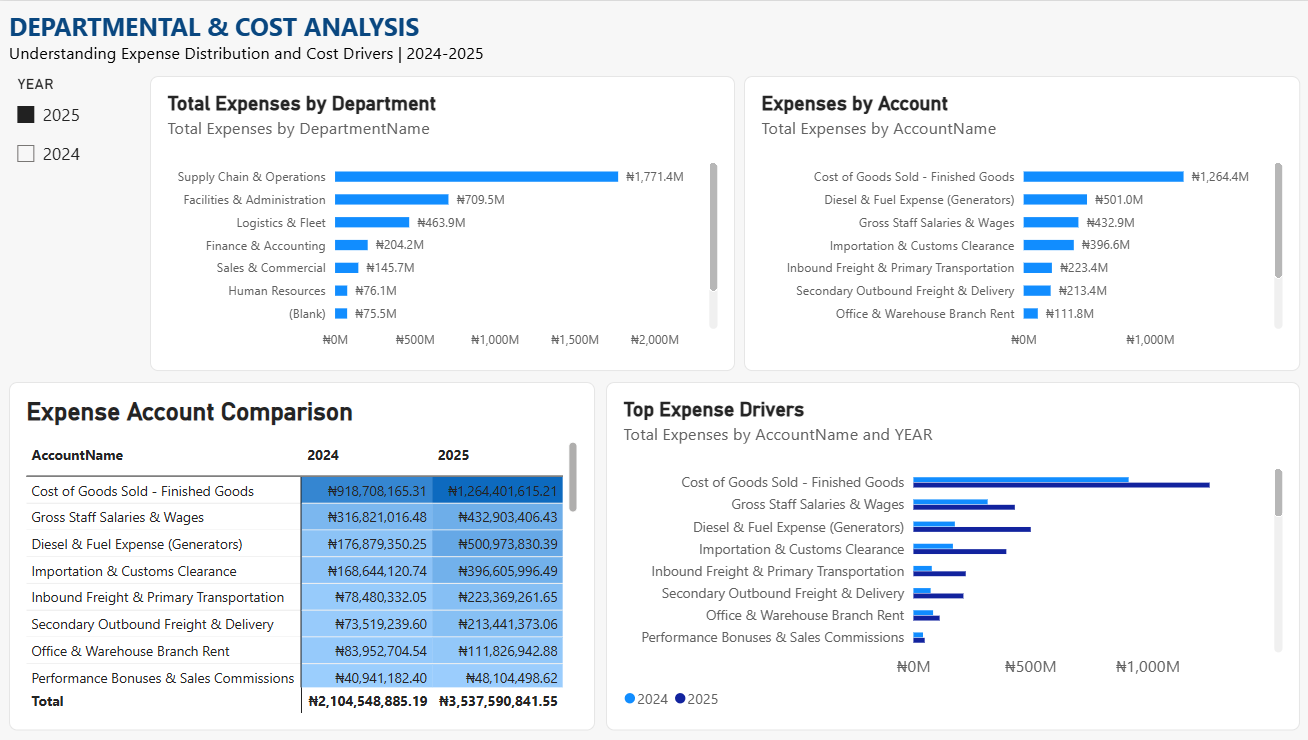

Layout of this report page (visuals, bound fields, positions):
{"tool":"powerbi","page":{"name":"Departmental & Cost Analysis","canvas":[1280,720],"ordinal":2},"visuals":[{"type":"clusteredBarChart","title":"Total Expenses by Department","fields":{"Category":["DimDepartment.DepartmentName"],"Y":["FactFinancialTransactions.Total Expenses"]},"box":[145.9,72.9,569,286.9],"z":0},{"type":"slicer","fields":{"Values":["DimDate.YEAR"]},"box":[8.8,72.9,129,108],"z":1000},{"type":"clusteredBarChart","title":"Expenses by Account","fields":{"Category":["DimAccount.AccountName"],"Y":["FactFinancialTransactions.Total Expenses"]},"box":[723.6,72.9,540.8,286.9],"z":2000},{"type":"pivotTable","title":"Expense Account Comparison","fields":{"Columns":["DimDate.YEAR"],"Rows":["DimAccount.AccountName"],"Values":["FactFinancialTransactions.Total Expenses"]},"box":[8.8,370.6,570,339],"z":3000},{"type":"clusteredBarChart","title":"Top Expense Drivers","fields":{"Category":["DimAccount.AccountName"],"Series":["DimDate.YEAR"],"Y":["FactFinancialTransactions.Total Expenses"]},"box":[589,371,675,339],"z":4000},{"type":"textbox","box":[8.8,7.8,602.1,65.2],"z":4001}]}

Visuals, with their boxes in screenshot pixels (x1, y1, x2, y2), scaled from the page's 1280x720 canvas onto the 1308x740 screenshot:
"Total Expenses by Department" clusteredBarChart: box(149, 75, 731, 370)
slicer - DimDate.YEAR: box(9, 75, 141, 186)
"Expenses by Account" clusteredBarChart: box(739, 75, 1292, 370)
"Expense Account Comparison" pivotTable: box(9, 381, 591, 729)
"Top Expense Drivers" clusteredBarChart: box(602, 381, 1292, 730)
textbox: box(9, 8, 624, 75)
